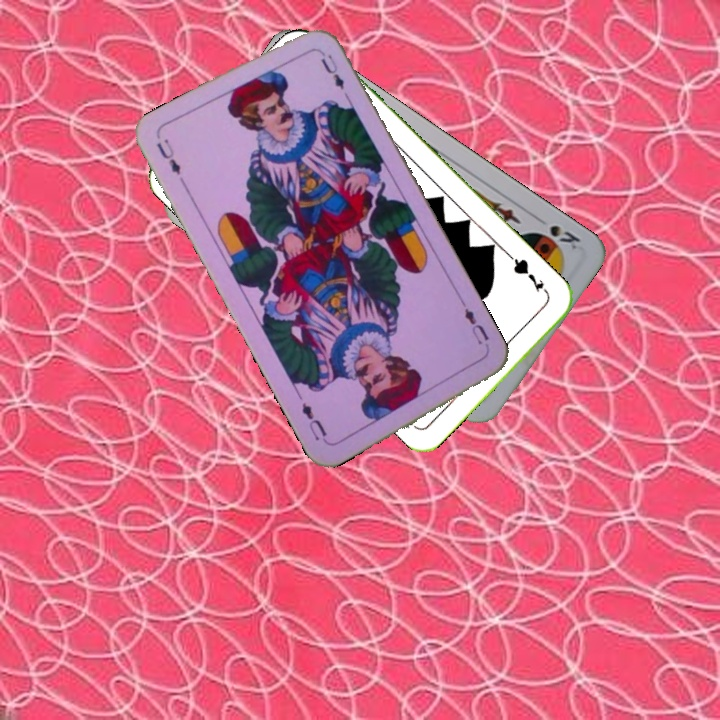EU: (458, 300, 492, 354), (152, 134, 184, 178)
G7: (506, 252, 552, 299)
SK: (531, 212, 583, 253)
